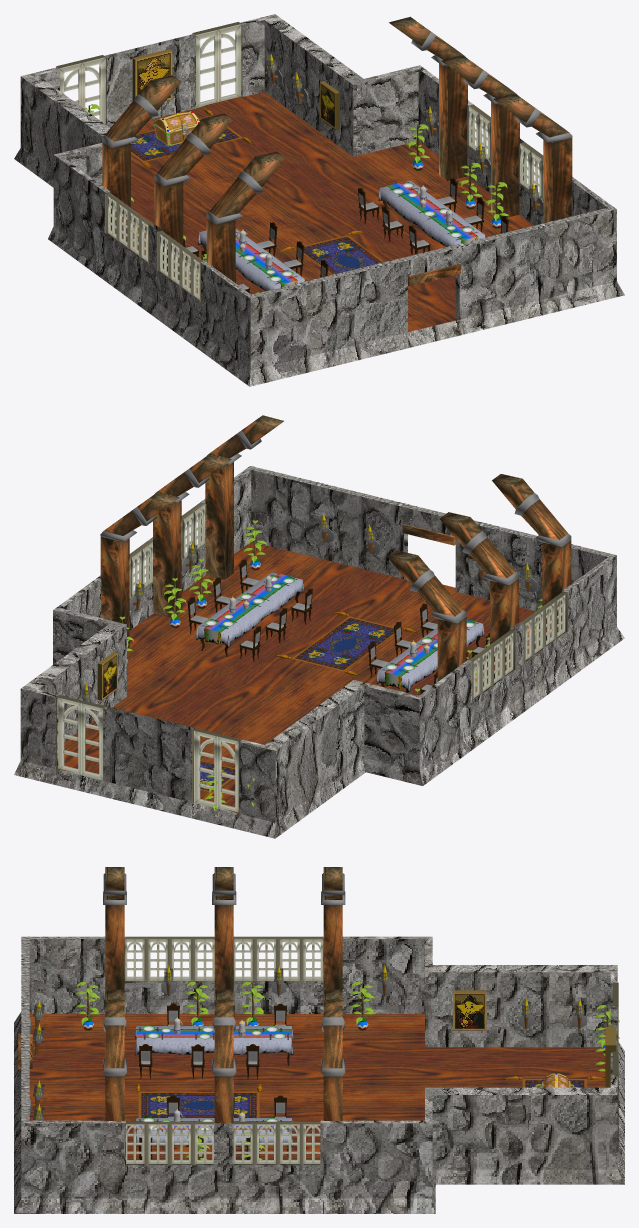
The model's file is starterIslandHouseInterior.glb.
3 views of the same model, one above another, from view 1: azimuth 30°, elevation 25°; view 2: azimuth 150°, elevation 25°; view 3: azimuth 270°, elevation 25° (orthographic). The views are drawn at different scales.
Parts seen in each view (by area): view 1: Plane.002, Plane.010, Plane.009, Plane.008, Plane.006, Plane.007, Plane.005, Table__cloth.001, f0102r0101_obj01_OptMesh_10_0_node.006, rdmobj00, f0102r0101_obj01_OptMesh_10_0_node.003, Table__cloth (+9 smaller); view 2: Plane.002, Plane.007, Plane.009, Plane.010, Plane.005, Plane.008, Plane.006, rdmobj00, Table__cloth.001, f0102r0101_obj01_OptMesh_10_0_node.001, f0102r0101_obj01_OptMesh_10_0_node.006, Table__cloth (+5 smaller); view 3: Plane.002, f0102r0101_obj01_OptMesh_10_0_node, Table__cloth, f0102r0101_obj01_OptMesh_10_0_node.003, f0102r0101_obj01_OptMesh_10_0_node.004, f0102r0101_obj01_OptMesh_10_0_node.005, Plane.009, Plane.010, Plane.007, Plane.008, Plane.005, Plane.006 (+8 smaller).
Part boxes in pixels (box(x1,y1,x2,y2)): Plane.002: box(14, 14, 624, 386); Plane.010: box(389, 16, 467, 180); Plane.009: box(441, 55, 519, 219); Plane.008: box(154, 113, 233, 279); Plane.006: box(102, 75, 180, 241); Plane.007: box(493, 93, 572, 223); Plane.005: box(206, 151, 285, 282); Table__cloth.001: box(378, 180, 485, 246); f0102r0101_obj01_OptMesh_10_0_node.006: box(192, 22, 241, 108); rdmobj00: box(279, 230, 384, 274); f0102r0101_obj01_OptMesh_10_0_node.003: box(105, 193, 153, 264); Table__cloth: box(198, 229, 304, 290); Plane.002: box(14, 466, 624, 838); Plane.007: box(205, 415, 283, 579); Plane.009: box(153, 453, 231, 617); Plane.010: box(100, 492, 179, 648); Plane.005: box(492, 474, 571, 640); Plane.008: box(439, 512, 518, 678); Plane.006: box(387, 550, 466, 681); rdmobj00: box(275, 611, 418, 675); Table__cloth.001: box(196, 572, 303, 647); f0102r0101_obj01_OptMesh_10_0_node.001: box(192, 728, 241, 815); f0102r0101_obj01_OptMesh_10_0_node.006: box(56, 695, 105, 781); Table__cloth: box(376, 619, 484, 691); Plane.002: box(14, 936, 624, 1213); f0102r0101_obj01_OptMesh_10_0_node: box(125, 936, 214, 981); Table__cloth: box(134, 1026, 293, 1055); f0102r0101_obj01_OptMesh_10_0_node.003: box(233, 936, 322, 981); f0102r0101_obj01_OptMesh_10_0_node.004: box(125, 1121, 214, 1164); f0102r0101_obj01_OptMesh_10_0_node.005: box(233, 1121, 322, 1164); Plane.009: box(212, 989, 236, 1123); Plane.010: box(321, 989, 345, 1120); Plane.007: box(103, 989, 126, 1120); Plane.008: box(212, 867, 236, 988); Plane.005: box(103, 867, 126, 988); Plane.006: box(321, 867, 345, 988).
Bounding box in the file's own units: 16.58 × 7.52 × 22.39.
Materials: 18 (16 with a texture image).
